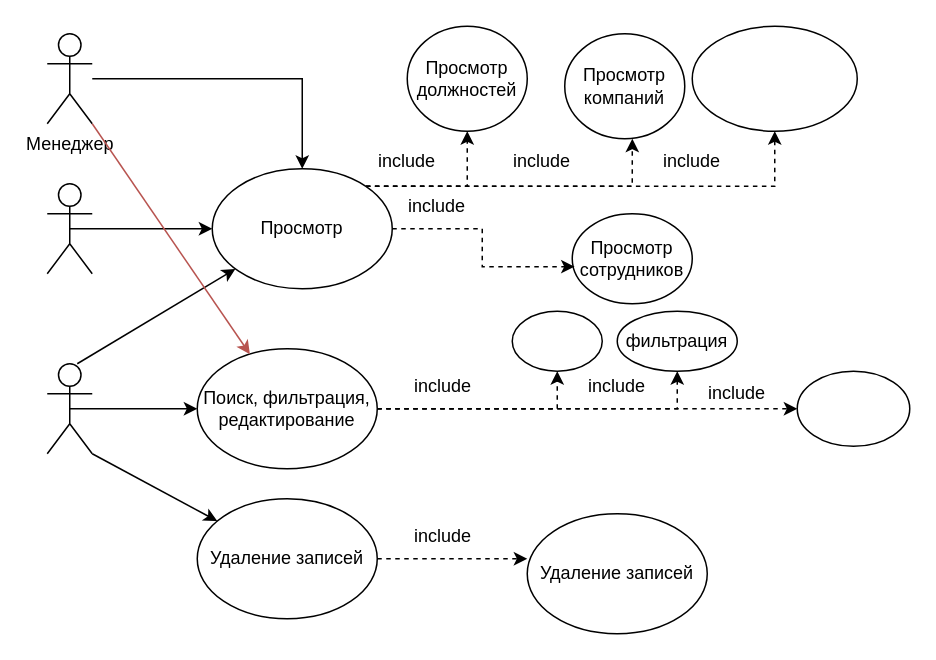
Image size: 936x660. Some labels were removed from this diagram. The shapes that lost their labels are listed below. From the top down, each one's centre as x and y in pixels, then its label:
At point 774,78: "Просмотр трудоустройств".
At point 69,228: "Гость".
At point 556,340: "поиск".
At point 69,408: "Админ".
At point 853,408: "Редакция записей".
